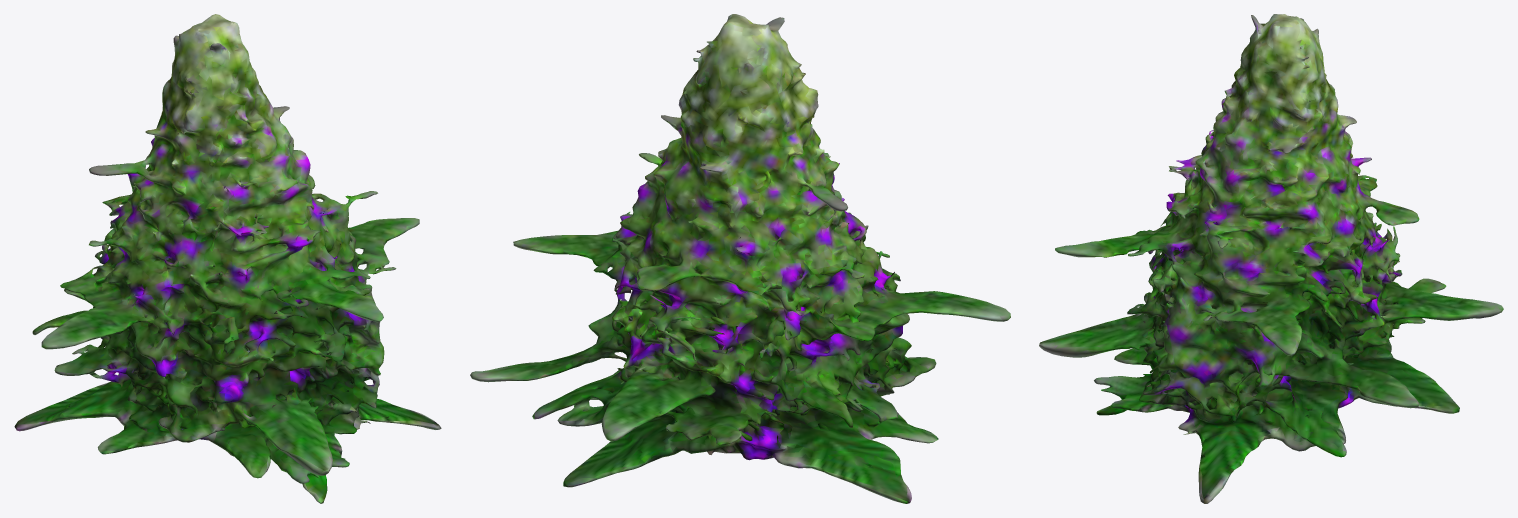
The model's file is 6foot.glb.
3 renders of one model, left to right at view 1: azimuth 30°, elevation 25°; view 2: azimuth 150°, elevation 25°; view 3: azimuth 270°, elevation 25°, orthographic. The views are drawn at different scales.
Visible parts, largest first — view 1: high_poly; view 2: high_poly; view 3: high_poly.
Part boxes in pixels (<box>): high_poly: <box>14,14,441,503</box>; high_poly: <box>470,14,1010,503</box>; high_poly: <box>1039,14,1503,503</box>.
Size of the model in its own units: 0.9836 by 0.9548 by 1.
1 material, 1 textured.
